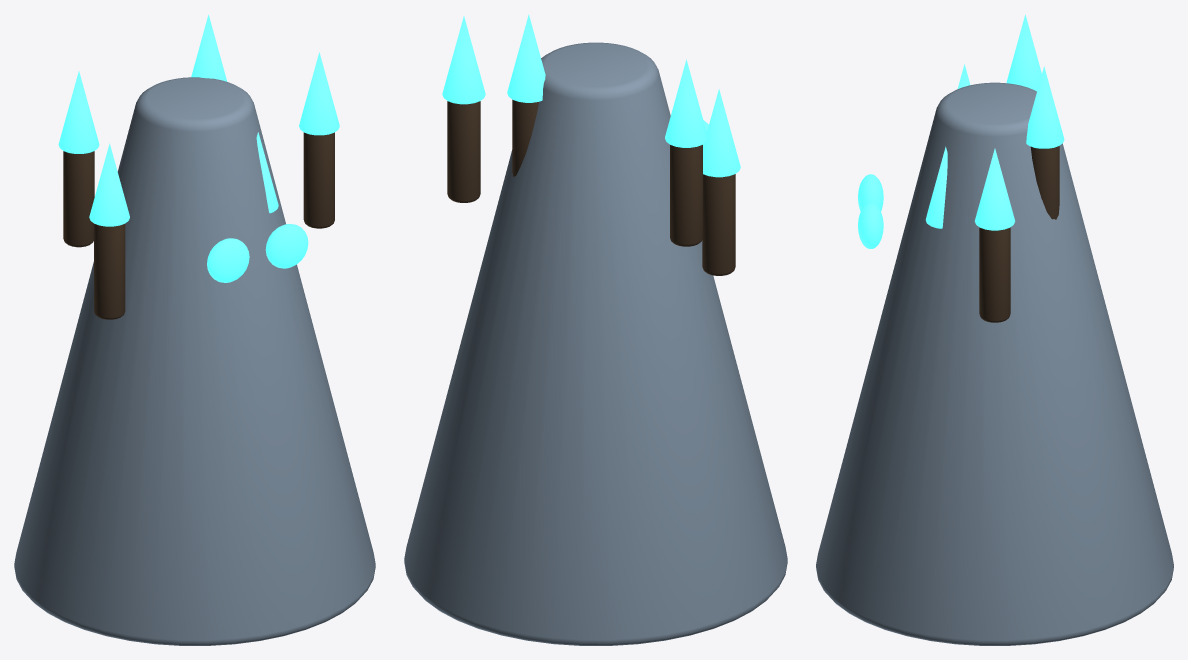
File: wraith_v4.glb
3 views of the same model, side by side, from view 1: azimuth 30°, elevation 25°; view 2: azimuth 150°, elevation 25°; view 3: azimuth 270°, elevation 25° (orthographic). The views are drawn at different scales.
Visible parts, largest first — view 1: CANDLE_WRAITH_PRIMARY, CANDLE_SECONDARY.003, CANDLE_SECONDARY, CANDLE_SECONDARY.002, CANDLE_FLAME_EMISSIVE, CANDLE_FLAME_EMISSIVE.003, CANDLE_FLAME_EMISSIVE.002, EYE_EMISSIVE.001, EYE_EMISSIVE, CANDLE_FLAME_EMISSIVE.001, CANDLE_FLAME_EMISSIVE.004; view 2: CANDLE_WRAITH_PRIMARY, CANDLE_SECONDARY, CANDLE_SECONDARY.003, CANDLE_SECONDARY.002, CANDLE_FLAME_EMISSIVE, CANDLE_FLAME_EMISSIVE.002, CANDLE_FLAME_EMISSIVE.003, CANDLE_FLAME_EMISSIVE.001, CANDLE_SECONDARY.001; view 3: CANDLE_WRAITH_PRIMARY, CANDLE_SECONDARY, CANDLE_FLAME_EMISSIVE, CANDLE_FLAME_EMISSIVE.001, CANDLE_SECONDARY.001, CANDLE_FLAME_EMISSIVE.002, EYE_EMISSIVE.001, CANDLE_FLAME_EMISSIVE.004, EYE_EMISSIVE.
Part boxes in pixels (x1,y1,x2,y2): CANDLE_WRAITH_PRIMARY: [14, 77, 375, 645]; CANDLE_SECONDARY.003: [94, 223, 125, 319]; CANDLE_SECONDARY: [303, 132, 334, 228]; CANDLE_SECONDARY.002: [63, 151, 94, 247]; CANDLE_FLAME_EMISSIVE: [299, 52, 339, 135]; CANDLE_FLAME_EMISSIVE.003: [89, 143, 129, 226]; CANDLE_FLAME_EMISSIVE.002: [58, 71, 99, 153]; EYE_EMISSIVE.001: [265, 224, 308, 268]; EYE_EMISSIVE: [207, 238, 249, 282]; CANDLE_FLAME_EMISSIVE.001: [191, 14, 227, 81]; CANDLE_FLAME_EMISSIVE.004: [256, 132, 278, 213]; CANDLE_WRAITH_PRIMARY: [404, 42, 787, 645]; CANDLE_SECONDARY: [447, 101, 480, 202]; CANDLE_SECONDARY.003: [702, 174, 735, 275]; CANDLE_SECONDARY.002: [670, 145, 702, 246]; CANDLE_FLAME_EMISSIVE: [442, 16, 485, 104]; CANDLE_FLAME_EMISSIVE.002: [665, 59, 707, 147]; CANDLE_FLAME_EMISSIVE.003: [703, 89, 740, 177]; CANDLE_FLAME_EMISSIVE.001: [507, 14, 545, 102]; CANDLE_SECONDARY.001: [512, 99, 538, 176]; CANDLE_WRAITH_PRIMARY: [816, 82, 1173, 645]; CANDLE_SECONDARY: [979, 227, 1010, 322]; CANDLE_FLAME_EMISSIVE: [974, 148, 1015, 230]; CANDLE_FLAME_EMISSIVE.001: [1026, 66, 1064, 148]; CANDLE_SECONDARY.001: [1030, 146, 1059, 219]; CANDLE_FLAME_EMISSIVE.002: [1006, 14, 1041, 91]; EYE_EMISSIVE.001: [858, 202, 883, 248]; CANDLE_FLAME_EMISSIVE.004: [925, 146, 947, 228]; EYE_EMISSIVE: [858, 174, 883, 211].
Size of the model in its own units: 1.38 by 2.24 by 1.38.
